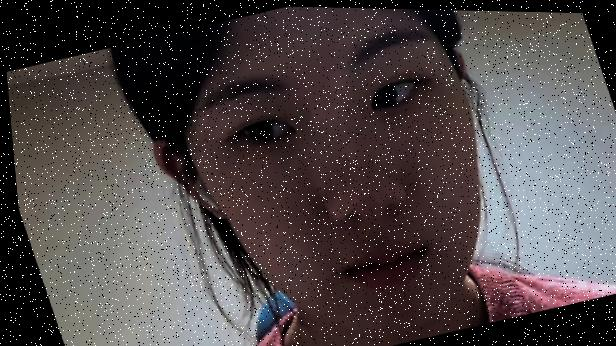eye: (241, 115, 274, 146), (367, 83, 398, 109)
iris: (233, 111, 295, 148), (363, 75, 423, 112)
